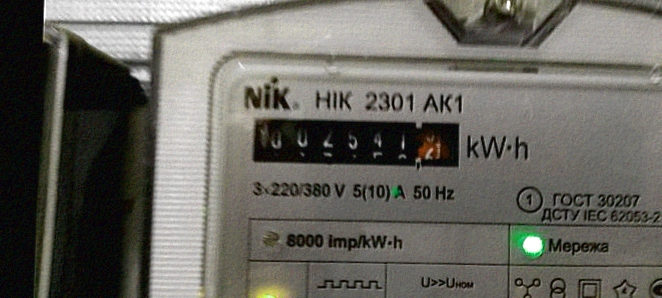0: (267, 125, 286, 151), (295, 123, 310, 150)
1: (395, 124, 409, 152)
2: (319, 124, 336, 149)
4: (371, 124, 385, 148)
5: (344, 123, 363, 152)
6: (421, 142, 437, 161)
screen: (240, 102, 475, 181)
